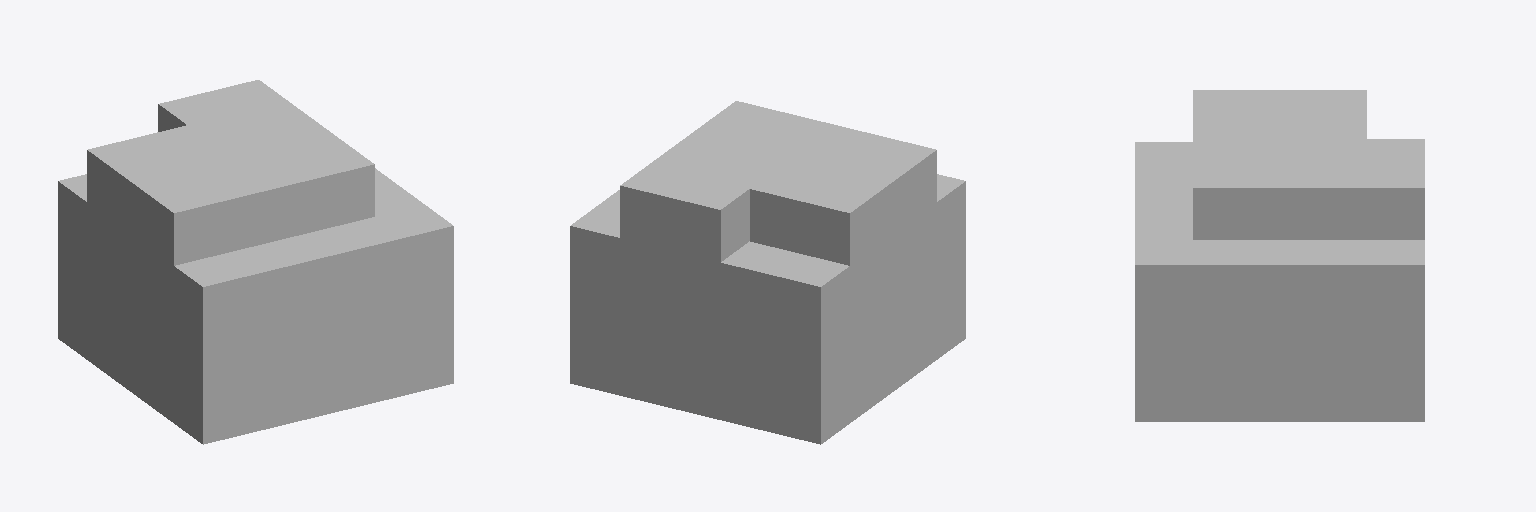
The picture shows the model from 3 angles: view 1: azimuth 30°, elevation 25°; view 2: azimuth 150°, elevation 25°; view 3: azimuth 270°, elevation 25°; orthographic projection.
Visible parts, largest first — view 1: rock; view 2: rock; view 3: rock.
Boxes of the visible parts, box(x1,y1,x2,y2) form: rock: box(58, 80, 453, 444); rock: box(570, 101, 965, 444); rock: box(1135, 90, 1424, 421).
Size of the model in its own units: 0.625 by 0.5 by 0.625.